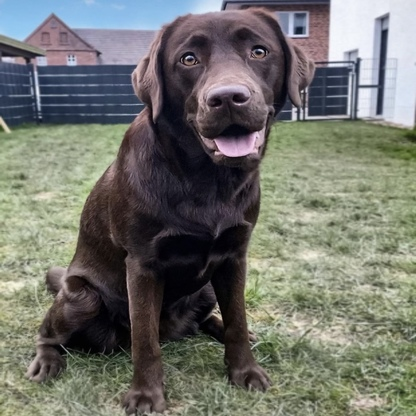labrado: (21, 1, 322, 416)
